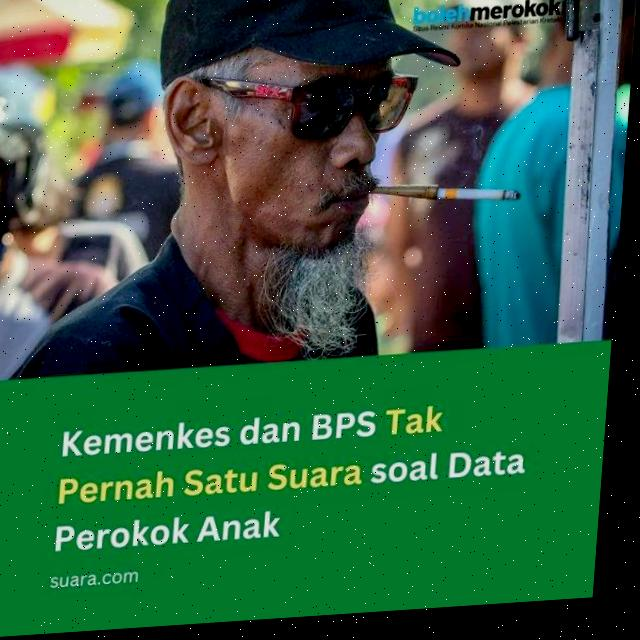cigarette: (440, 191, 526, 213)
